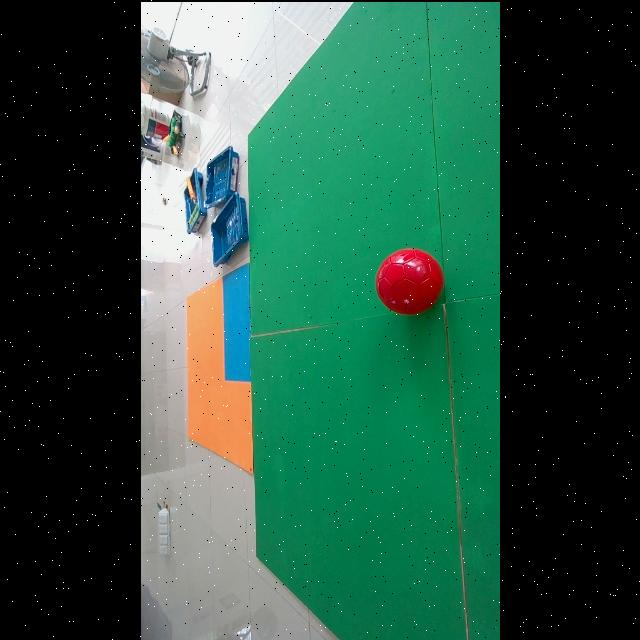R: (375, 247, 443, 313)
